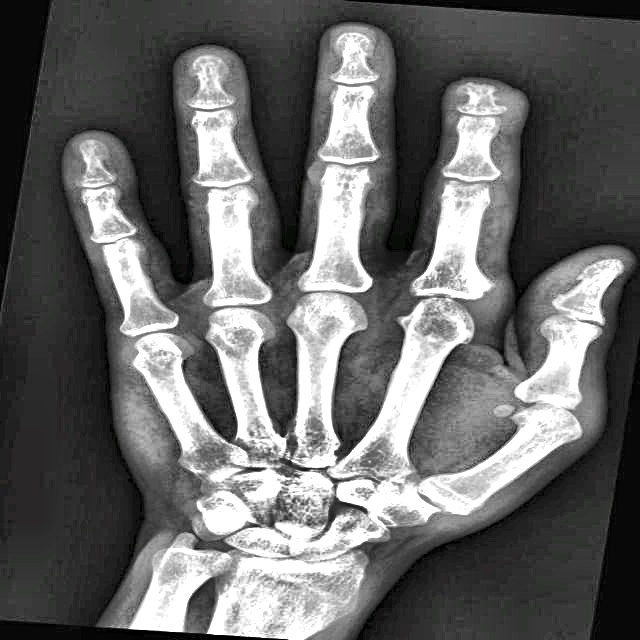Comminuted: (437, 74, 526, 126)
